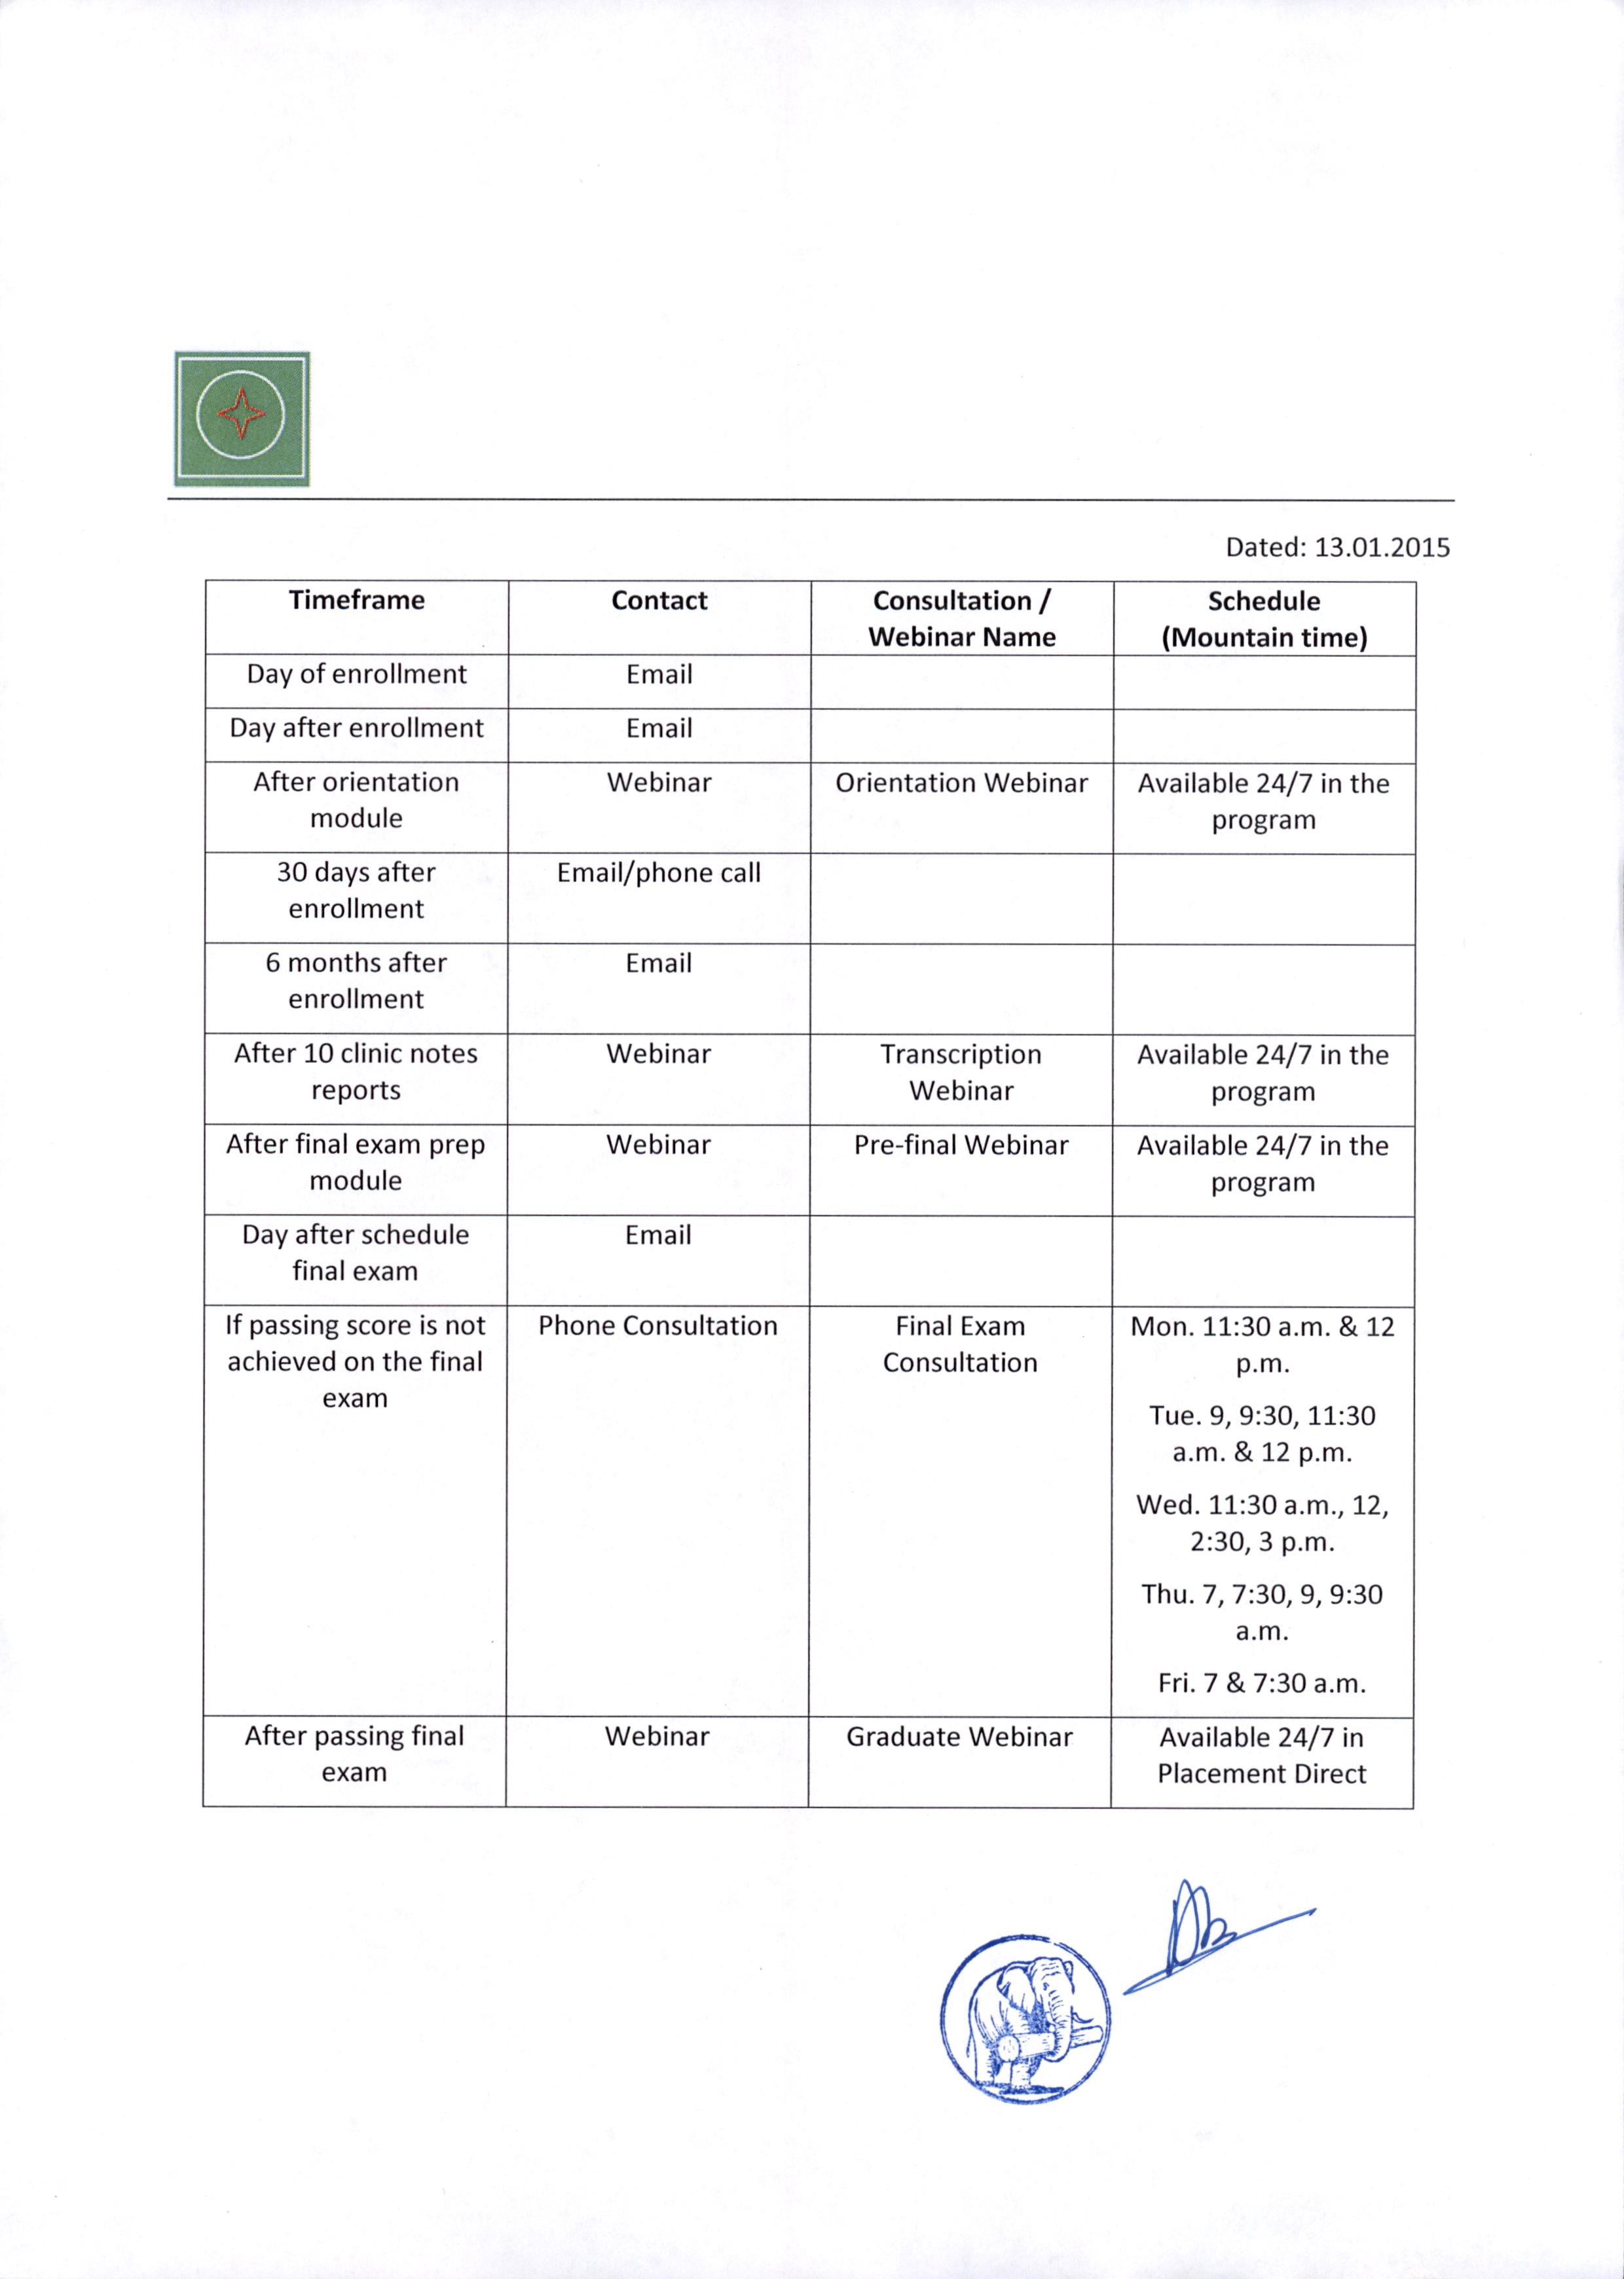Signature: (1116, 1868, 1325, 2005)
